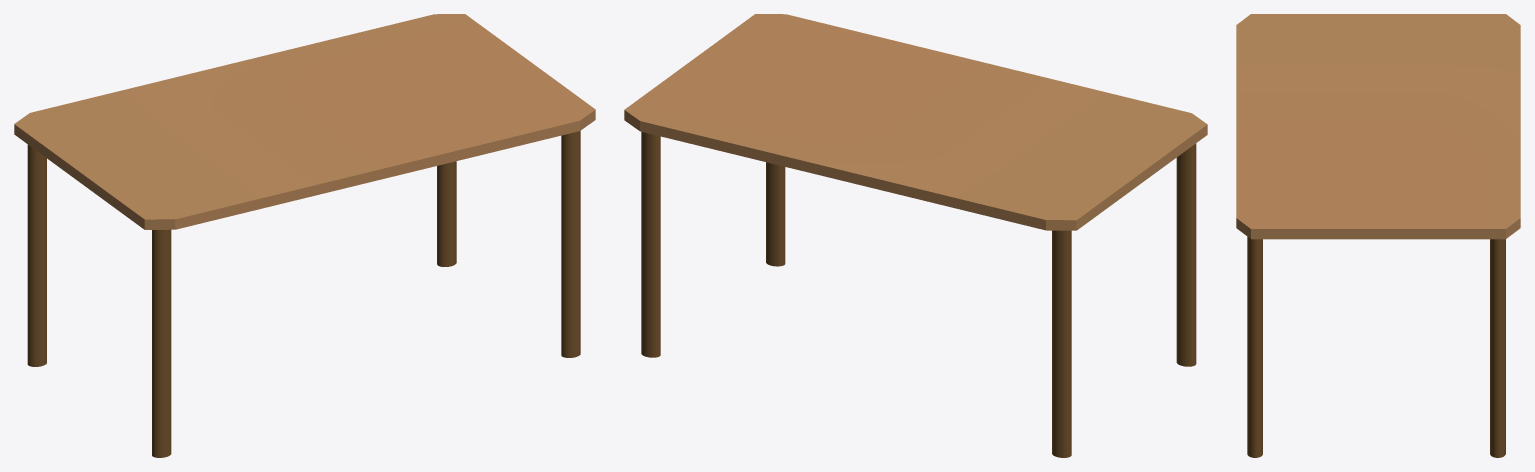
Rendered from plain-table.gltf.
3 renders of one model, left to right at view 1: azimuth 30°, elevation 25°; view 2: azimuth 150°, elevation 25°; view 3: azimuth 270°, elevation 25°, orthographic. The views are drawn at different scales.
Visible parts, largest first — view 1: Table3; view 2: Table3; view 3: Table3.
Boxes of the visible parts, x1,y1,x2,y2 form: Table3: [14, 14, 595, 457]; Table3: [624, 14, 1207, 457]; Table3: [1236, 14, 1520, 457].
Size of the model in its own units: 1.47 by 0.7501 by 0.8207.
1 material, 1 textured.
